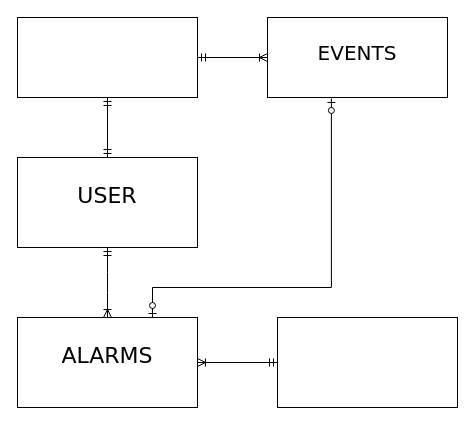
The diagram is 475 pixels wide and 425 high, and some of its shapes have lost their labels. Each missing label, with the centre of its shape:
Calendar: [107,57]
SPOTIFY/ iHEART RADIO Stations, songs or tones: [367,362]
